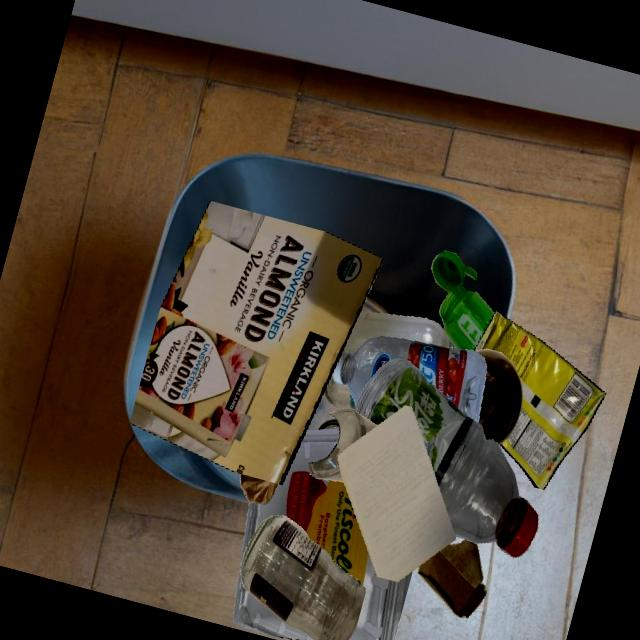cardboard: (129, 200, 383, 485), (417, 539, 486, 618), (239, 473, 277, 505)
glass: (240, 515, 365, 640), (308, 408, 377, 482), (341, 311, 456, 353), (474, 348, 522, 445), (323, 371, 356, 410), (316, 418, 339, 429)
paper: (337, 405, 455, 582)
plastic: (233, 426, 412, 640), (354, 358, 537, 557), (332, 336, 486, 422), (431, 250, 494, 350)
trash: (473, 311, 605, 489)
